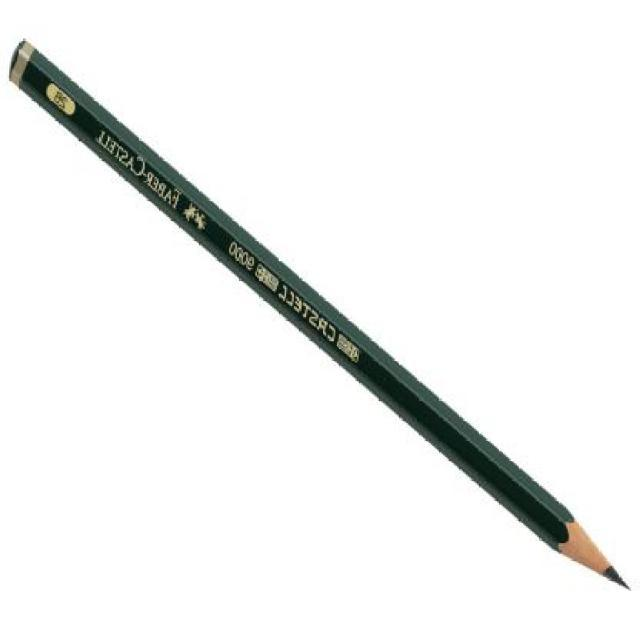Pencil: (547, 496, 635, 598)
